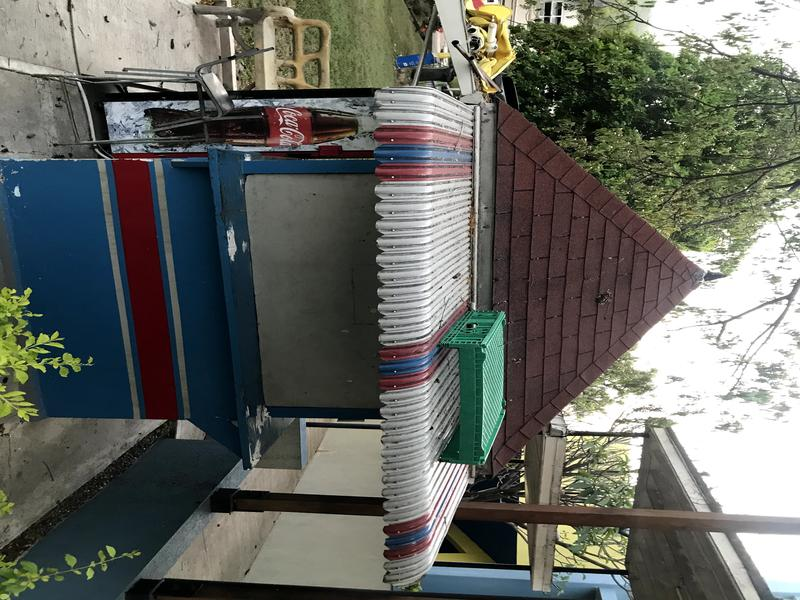18.0051667_-76.74944412_librarystall: (1, 52, 740, 600)
